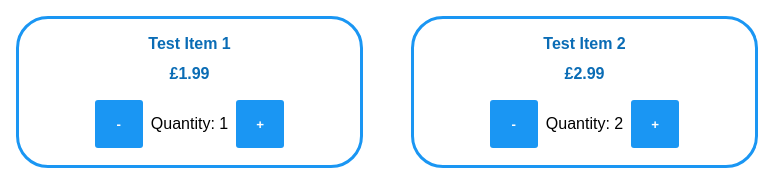
Scenario: Basket › Increases item quantity correctly
Expected: the list item "Test Item 2 £2.99 - Quantity: 2 +" is shown, [411,16,758,168]
Click the button "+" below "Test Item 2": (655, 124) [631,100,679,148]
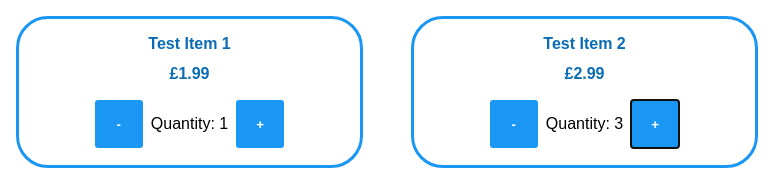
Expected: the list item "Test Item 2 £2.99 - Quantity: 3 +" is shown, [411,16,758,168]
